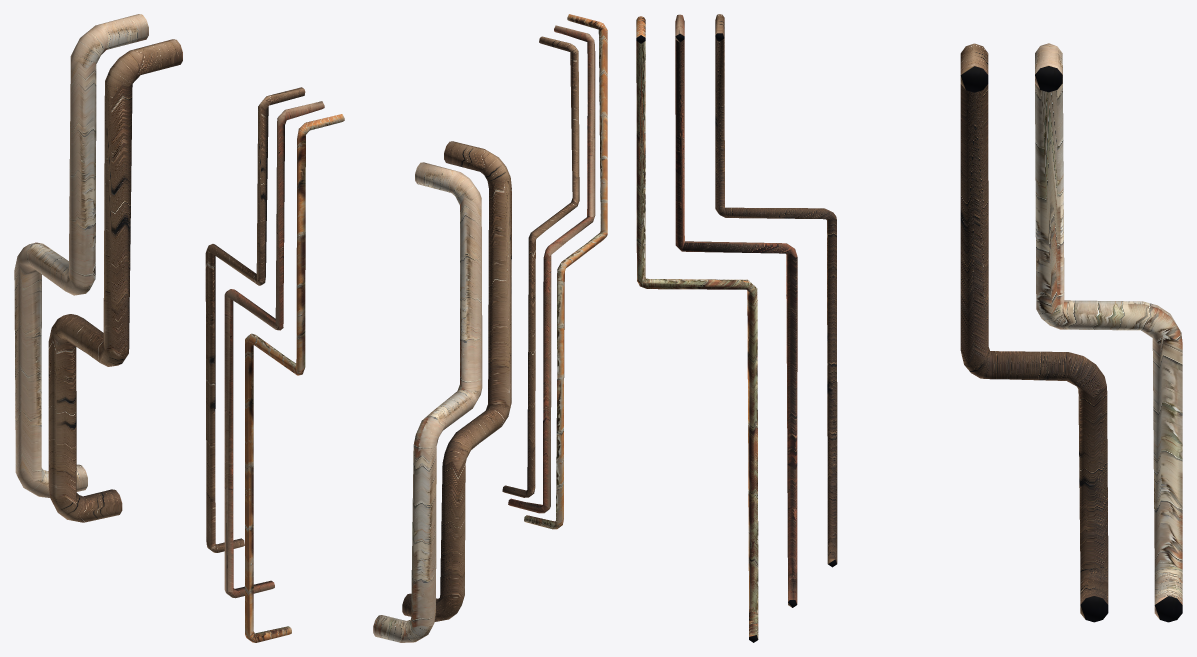
The model's file is wallPipeCombo_100.fbx.
3 renders of one model, left to right at view 1: azimuth 30°, elevation 25°; view 2: azimuth 150°, elevation 25°; view 3: azimuth 270°, elevation 25°, orthographic. The views are drawn at different scales.
Parts seen in each view (by area): view 1: pipeB200, pipeA200, pipeE200, pipeC200, pipeD200, pipeA150; view 2: pipeA200, pipeB200, pipeE200, pipeD200, pipeC200, pipeA150; view 3: pipeA200, pipeB200, pipeE200, pipeD200, pipeC200, pipeD10, pipeB10.
Part boxes in pixels (x1,y1,x2,y2): pipeB200: (48,39,182,522); pipeA200: (14,14,148,497); pipeE200: (245,114,344,642); pipeC200: (205,87,305,552); pipeD200: (224,101,324,598); pipeA150: (25,46,91,295); pipeA200: (373,162,482,642); pipeB200: (402,141,511,621); pipeE200: (524,14,607,529); pipeD200: (508,25,595,513); pipeC200: (502,36,579,497); pipeA150: (422,189,481,430); pipeA200: (1035,43,1182,622); pipeB200: (960,43,1108,622); pipeE200: (636,16,758,642); pipeD200: (675,14,797,607); pipeC200: (715,14,837,567); pipeD10: (682,243,790,253); pipeB10: (717,40,824,215).
Size of the model in its own units: 0.9833 by 6.24 by 5.07.
